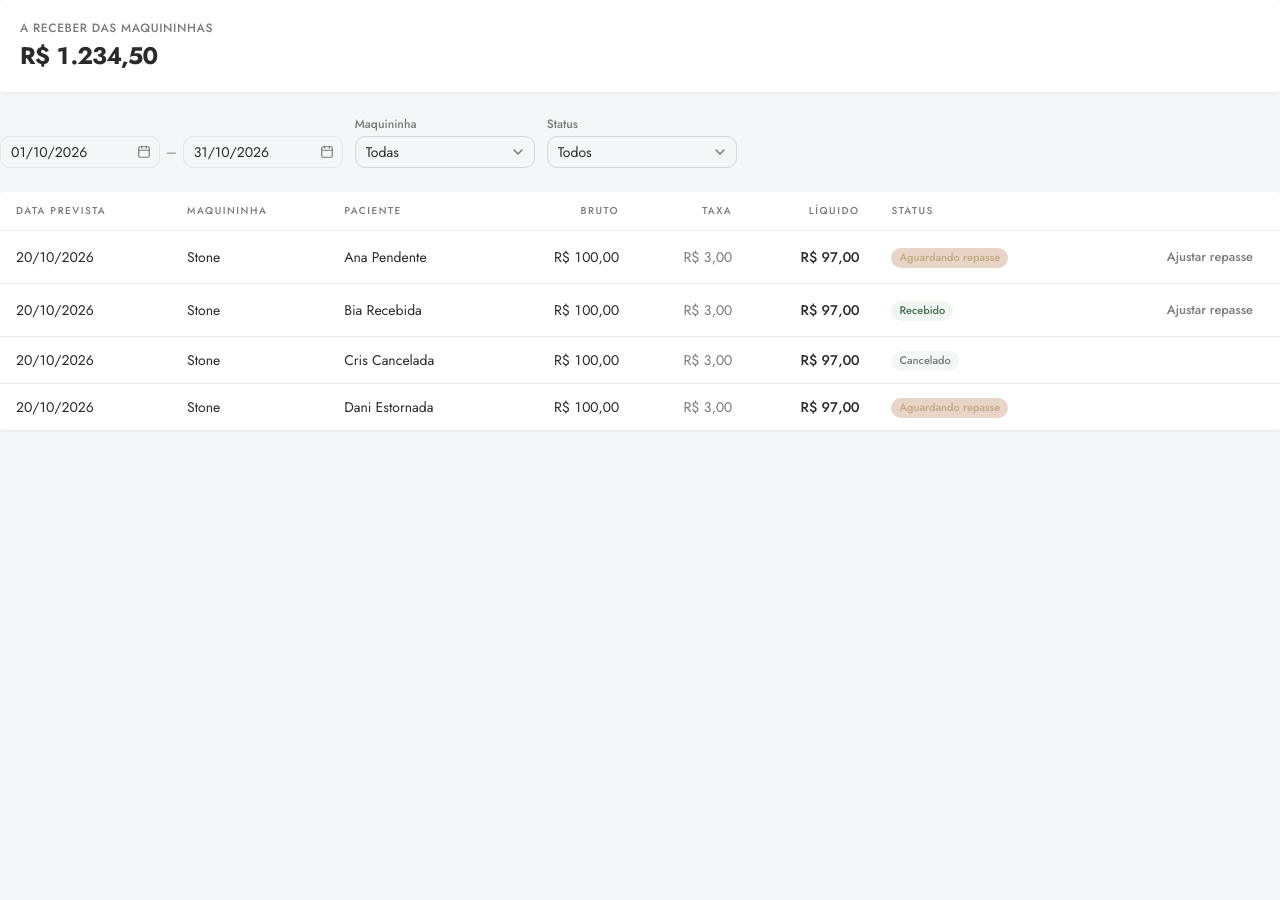
Test case: CardRepassesView › opens the adjust dialog from a row
Click the button "Ajustar repasse" in the row of "Ana Pendente" at (1210, 257), box [1156,243,1264,271]
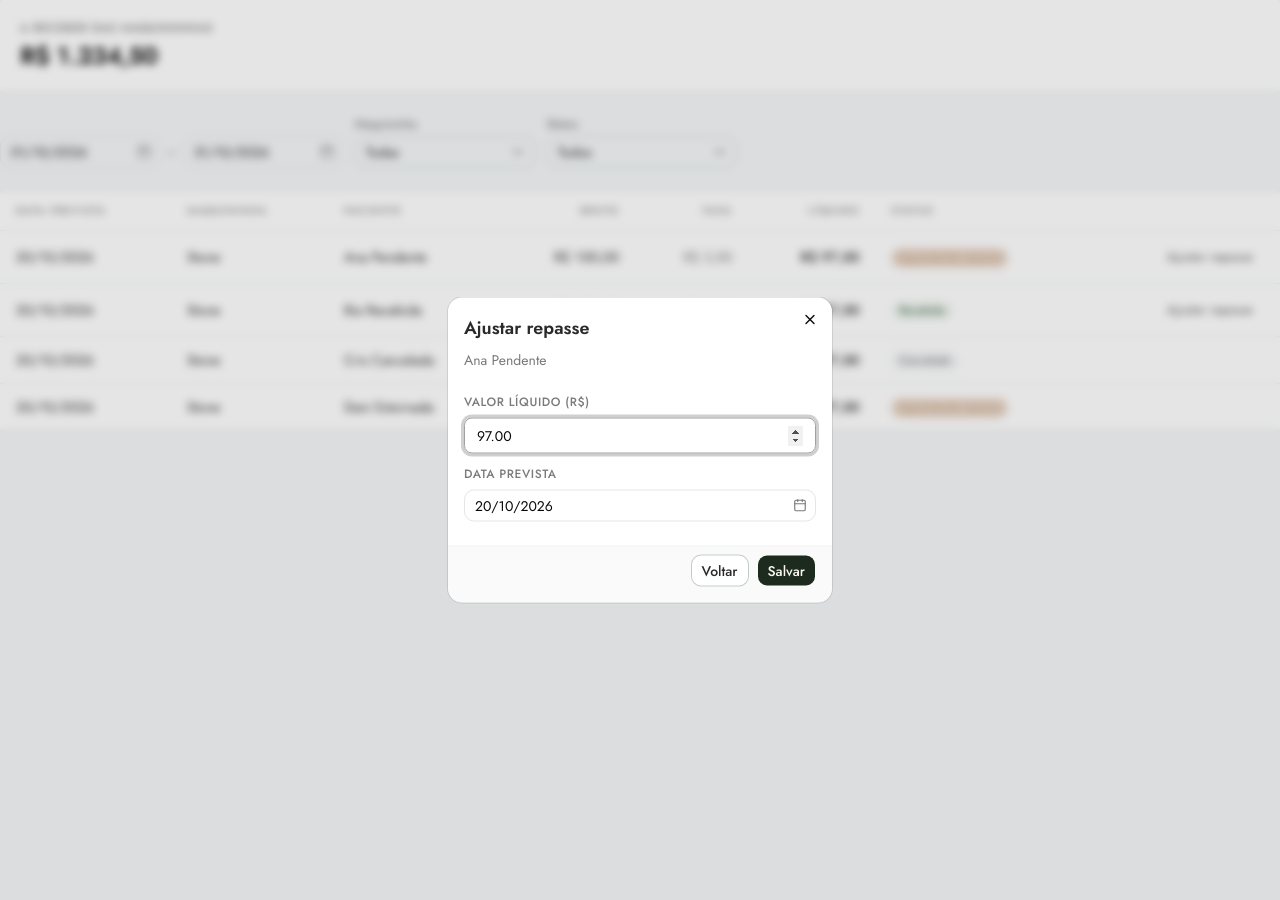
Check: the number field labelled "Valor líquido (R$)" is shown, box [464,418,816,454]
